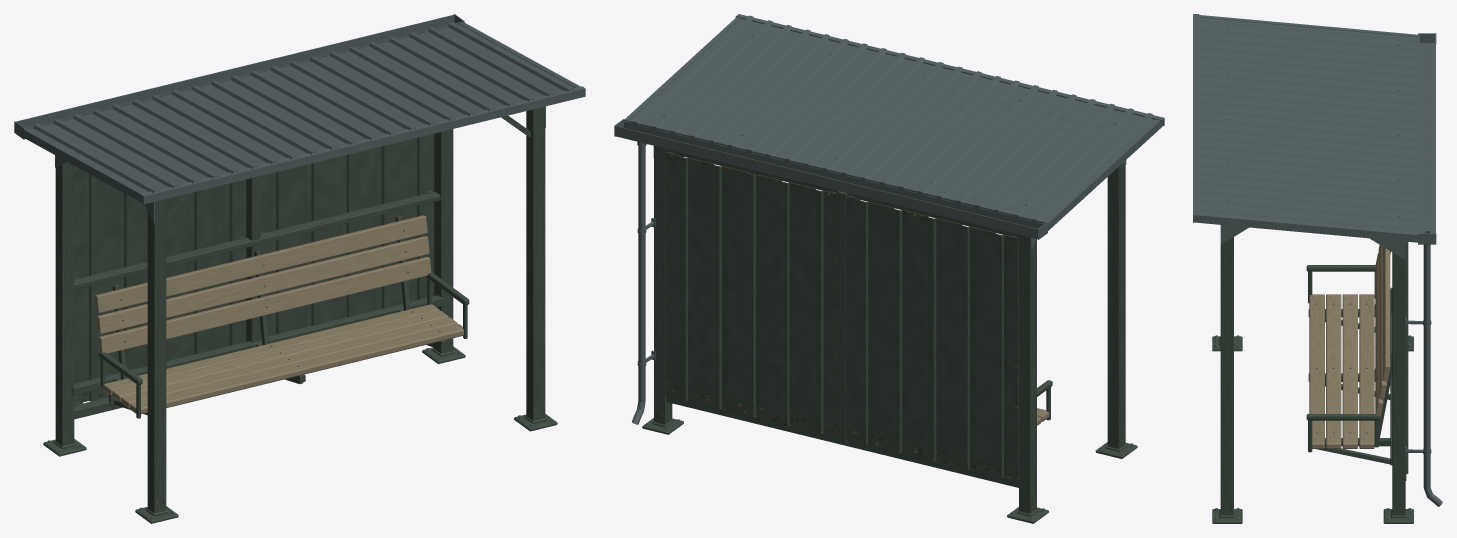
The model's file is BC_SHELTER01_static.glb.
3 renders of one model, left to right at view 1: azimuth 30°, elevation 25°; view 2: azimuth 150°, elevation 25°; view 3: azimuth 270°, elevation 25°, orthographic. The views are drawn at different scales.
Visible parts, largest first — view 1: BC_SHELTER01_FrameAndScreen, BC_SHELTER01_RoofAndHardware, BC_SHELTER01_BenchTimber; view 2: BC_SHELTER01_FrameAndScreen, BC_SHELTER01_RoofAndHardware; view 3: BC_SHELTER01_RoofAndHardware, BC_SHELTER01_FrameAndScreen, BC_SHELTER01_BenchTimber.
Boxes of the visible parts, x1,y1,x2,y2 form: BC_SHELTER01_FrameAndScreen: [43, 106, 557, 523]; BC_SHELTER01_RoofAndHardware: [14, 14, 585, 519]; BC_SHELTER01_BenchTimber: [94, 215, 463, 414]; BC_SHELTER01_FrameAndScreen: [642, 42, 1137, 523]; BC_SHELTER01_RoofAndHardware: [614, 14, 1164, 519]; BC_SHELTER01_RoofAndHardware: [1193, 14, 1442, 520]; BC_SHELTER01_FrameAndScreen: [1212, 237, 1413, 523]; BC_SHELTER01_BenchTimber: [1309, 245, 1390, 448].
Size of the model in its own units: 3.22 by 2.38 by 1.69.
Materials: 3 (3 with a texture image).
